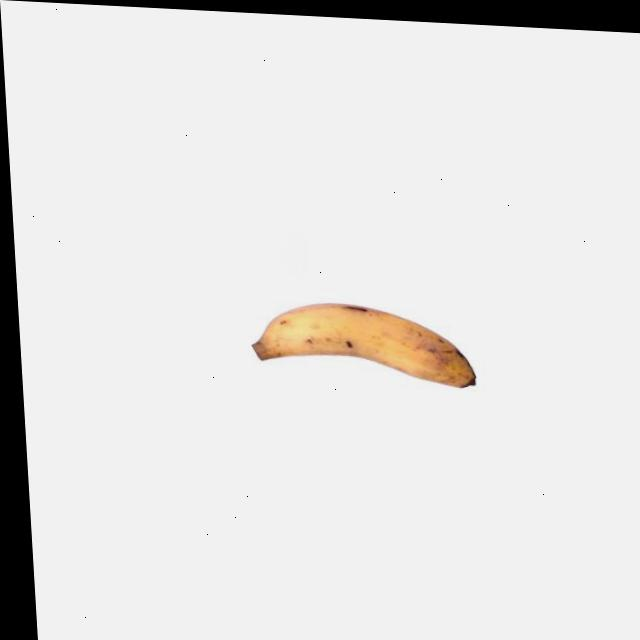banana: (247, 296, 481, 393)
